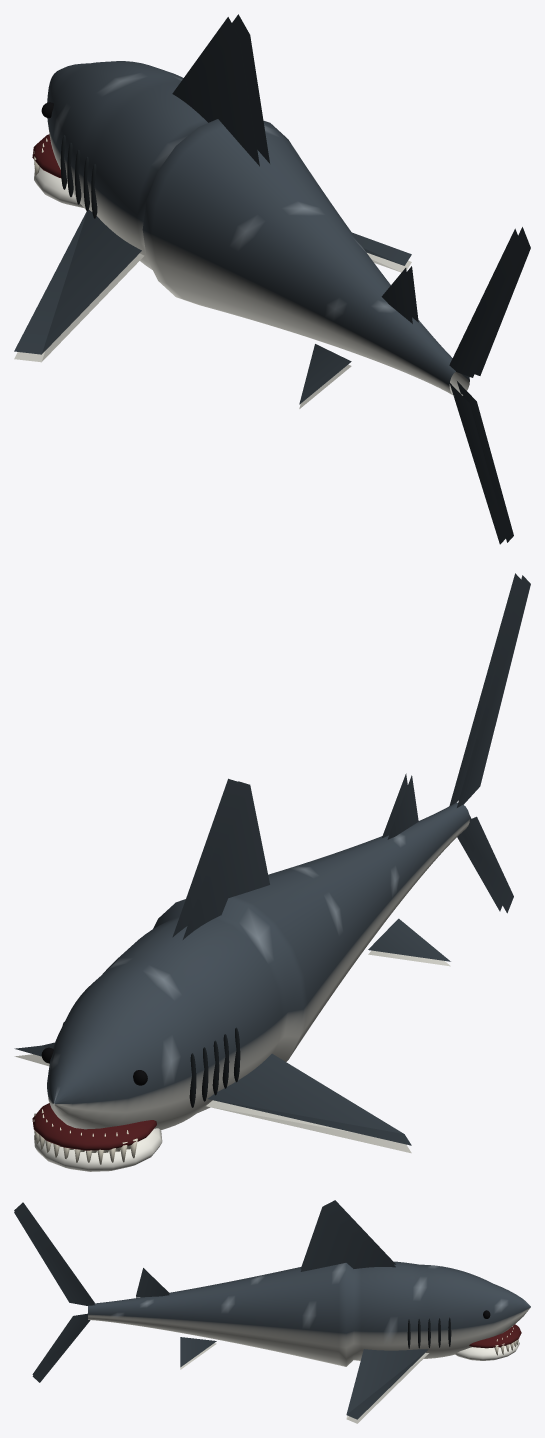
Rendered from megalodonte.glb.
3 views of the same model, one above another, from view 1: azimuth 30°, elevation 25°; view 2: azimuth 150°, elevation 25°; view 3: azimuth 270°, elevation 25° (orthographic). The views are drawn at different scales.
Visible parts, largest first — view 1: Corpo, Mandibula; view 2: Corpo, Mandibula; view 3: Corpo, Mandibula.
Boxes of the visible parts, x1,y1,x2,y2 form: Corpo: (14, 14, 530, 544); Mandibula: (34, 138, 83, 207); Corpo: (14, 573, 530, 1164); Mandibula: (34, 1109, 162, 1171); Corpo: (14, 1200, 530, 1423); Mandibula: (455, 1326, 519, 1360).
Bounding box in the file's own units: 13.6 × 10.8 × 28.
